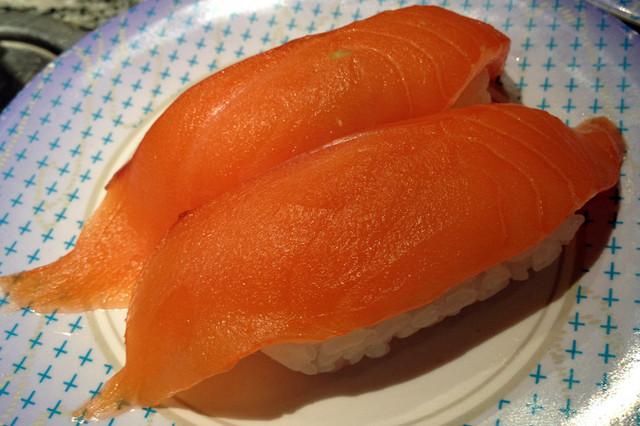salmon: (30, 4, 622, 384)
